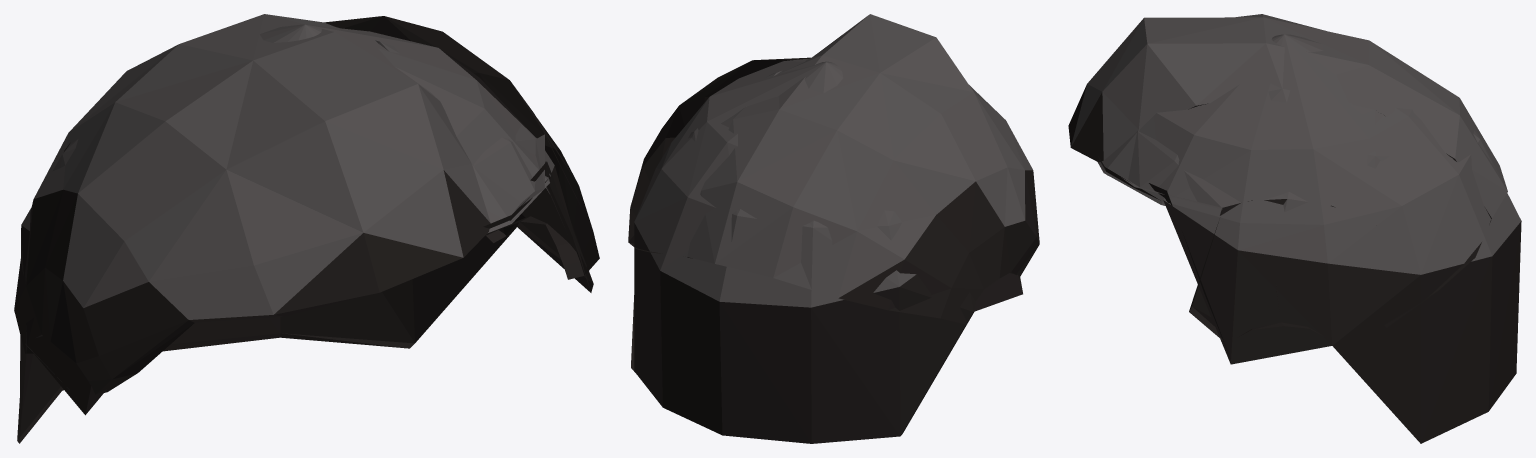
File: hair_side_part_01.glb
The picture shows the model from 3 angles, left to right: view 1: azimuth 30°, elevation 25°; view 2: azimuth 150°, elevation 25°; view 3: azimuth 270°, elevation 25°; orthographic projection. The views are drawn at different scales.
Visible parts, largest first — view 1: hair_side_part_01; view 2: hair_side_part_01; view 3: hair_side_part_01.
Boxes of the visible parts, x1,y1,x2,y2 form: hair_side_part_01: (14,14,599,443); hair_side_part_01: (628,14,1039,443); hair_side_part_01: (1068,14,1521,443).
Size of the model in its own units: 0.272 by 0.2226 by 0.2702.
1 material, 1 textured.
